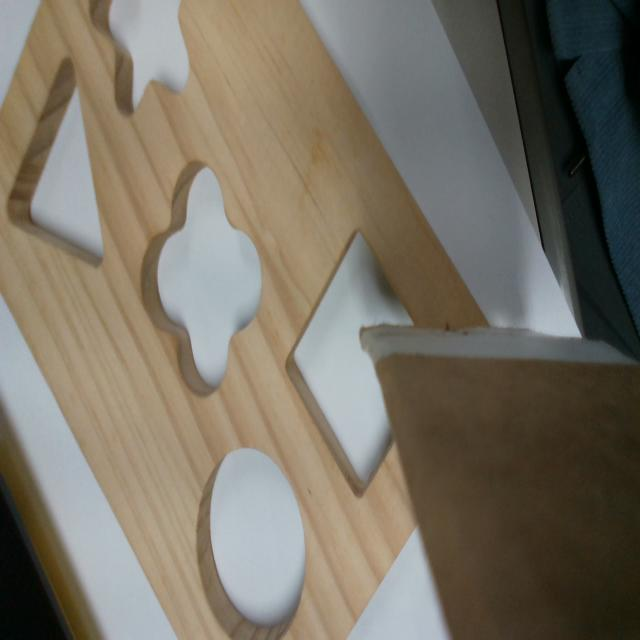circle: (197, 454, 308, 637)
flower: (139, 164, 261, 390)
square: (285, 227, 417, 501)
star: (89, 0, 190, 112)
triangle: (4, 56, 106, 270)
